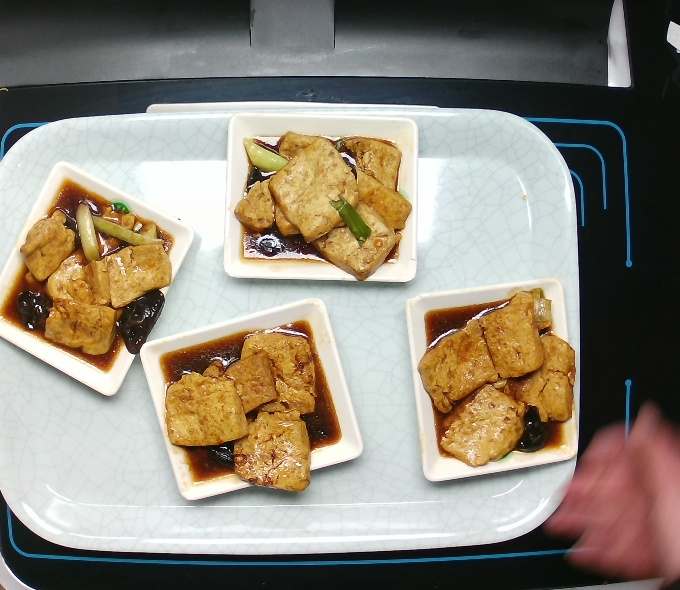wcq-JiaChangDouFu: (1, 173, 181, 379), (153, 315, 350, 497), (413, 284, 581, 474), (229, 122, 418, 287)
